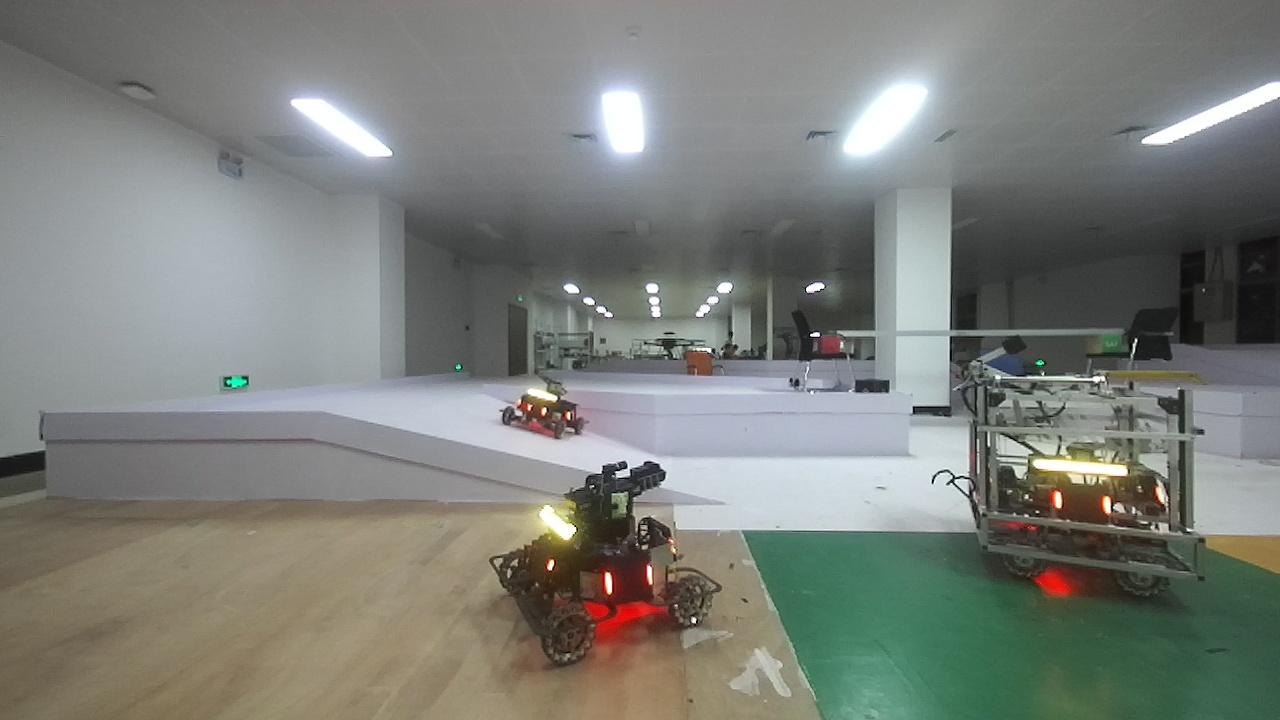car: (941, 339, 1223, 621), (486, 463, 732, 672), (491, 360, 593, 446)
